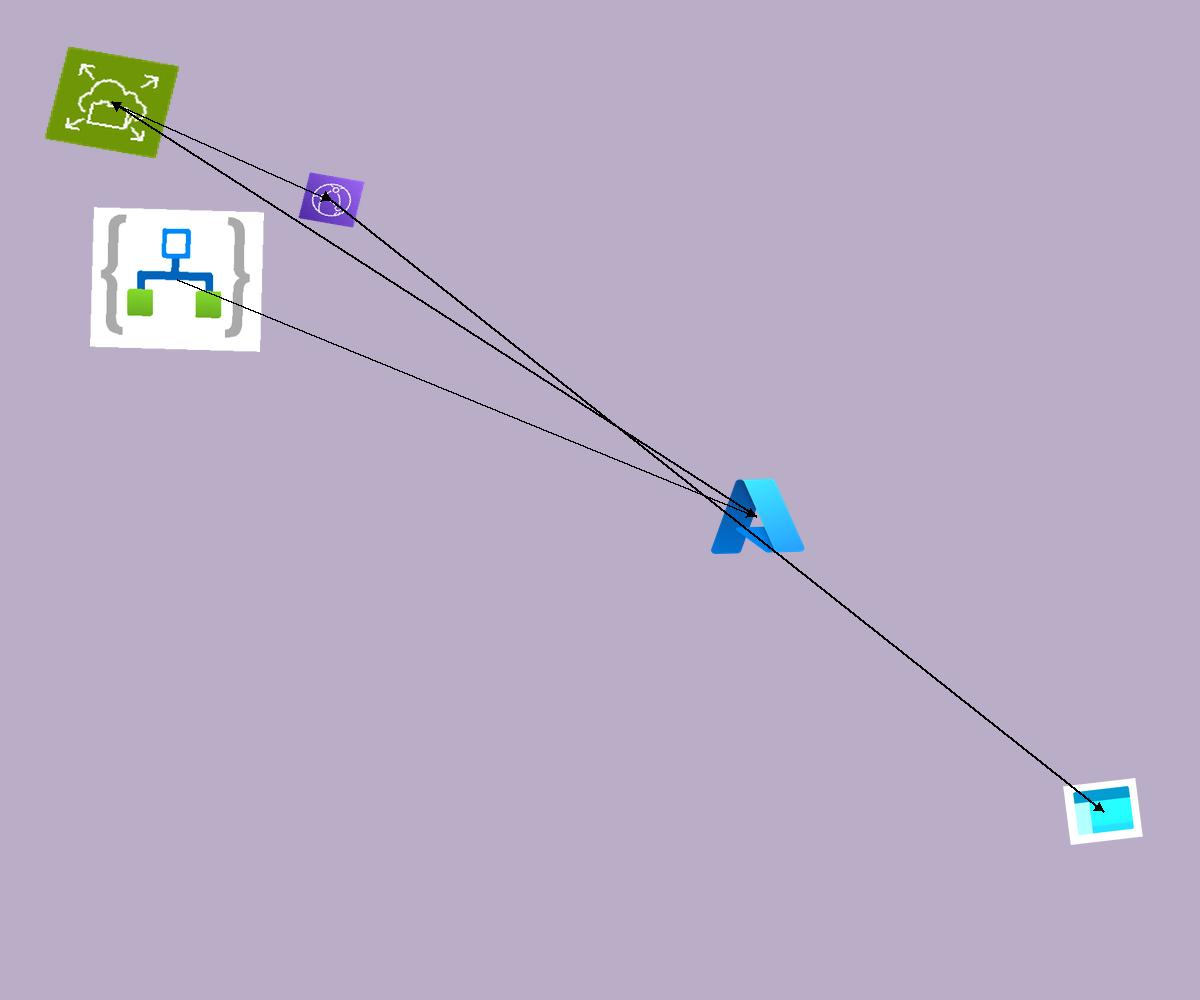AWS-CloudFront: (298, 172, 365, 228)
AWS-EFS: (44, 46, 180, 159)
Azure_integration-204-Logic-Apps: (90, 207, 264, 352)
Azure_management-portal: (1063, 778, 1143, 845)
Azure_services: (704, 472, 809, 560)
